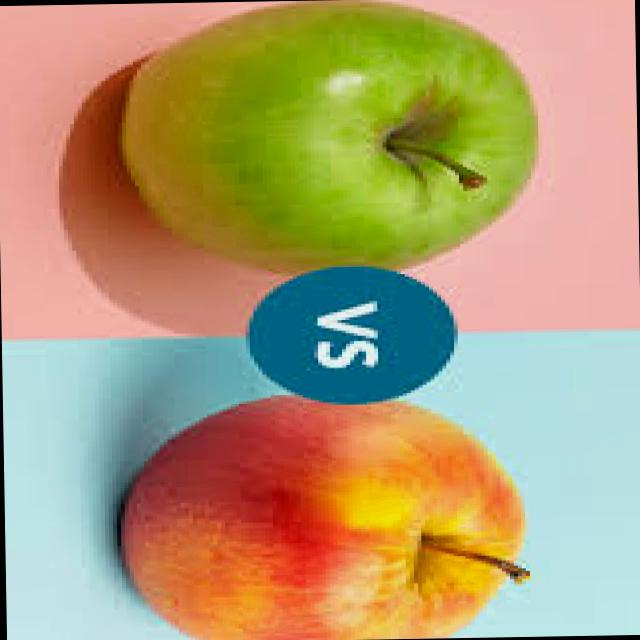Green Juicy Apple: (118, 0, 537, 275)
Red Apple: (117, 390, 521, 640)
